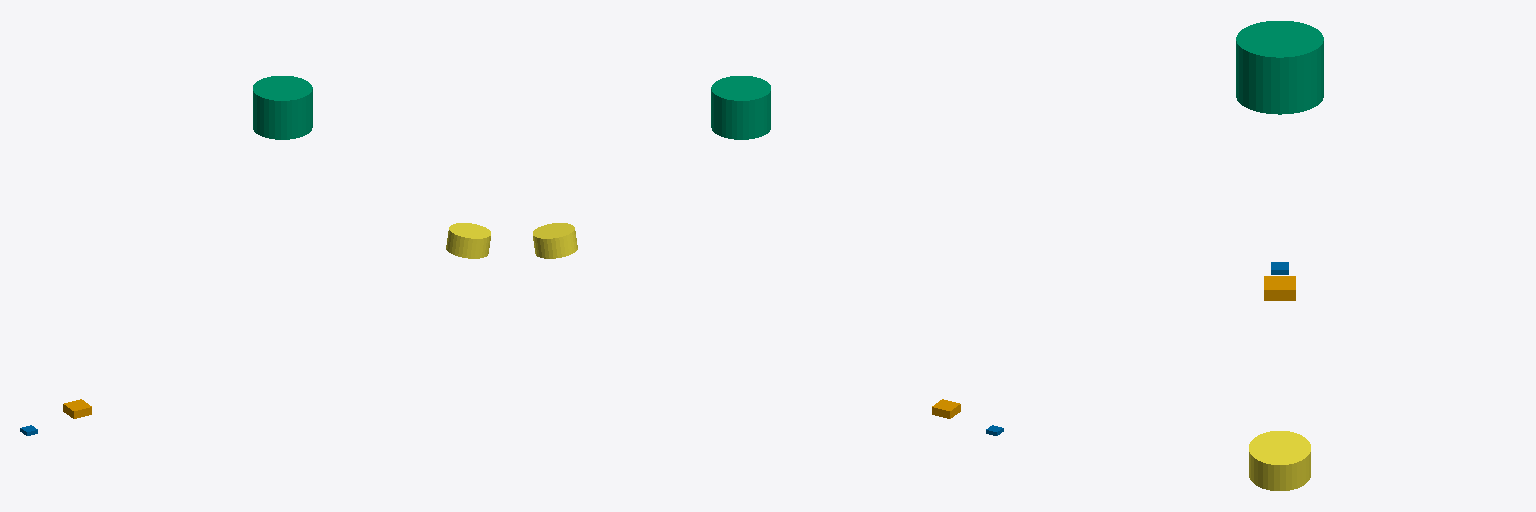
robot.urdf — BLUE:
<?xml version="1.0"?>

<robot name="BLUE">

<link name="base_link">

  <visual name='visual'>
    <geometry>
      <box size="0.05 0.05 0.02"/>
    </geometry>
  </visual>

  <collision name='collision'>
    <geometry>
      <box size="0.05 0.05 0.02"/>
    </geometry>
  </collision>

</link>

<link name="gps"/>

<link name='velodyne'>

  <visual name='visual'>
    <geometry>
      <cylinder length="0.1" radius="0.07"/>
    </geometry>
  </visual>

  <collision name='collision'>
    <geometry>
      <cylinder length="0.1" radius="0.07"/>
    </geometry>
  </collision>
  
</link>

<link name='camera_link'>

  <visual name='visual'>
    <geometry>
      <cylinder length="0.05" radius="0.05"/>
    </geometry>
  </visual>

  <collision name='collision'>
    <geometry>
      <cylinder length="0.05" radius="0.05"/>
    </geometry>
  </collision>
  
</link>

<link name="imu_link">

  <visual name='visual'>
    <geometry>
      <box size="0.03 0.03 0.01"/>
    </geometry>
  </visual>

  <collision name='collision'>
    <geometry>
      <box size="0.03 0.03 0.01"/>
    </geometry>
  </collision>

</link>


<joint name="base_to_velo" type="fixed">
  <parent link="base_link"/>
  <child link="velodyne"/>
  <origin rpy="0.0 0.0 0.0" xyz="0.55 0.0 0.645"/>
</joint>

<joint name="base_to_camera" type="fixed">
  <parent link="base_link"/>
  <child link="camera_link"/>
  <origin rpy="0.0 0.15 0.0" xyz="1.05 0.0 0.187"/>
</joint>

<joint name="base_to_imu" type="fixed">
  <parent link="base_link"/>
  <child link="imu_link"/>
  <origin rpy="0.0 0.0 0.0" xyz="-0.13 0.0 -0.025"/>
</joint>

<joint name="base_to_gps" type="fixed">
  <parent link="base_link"/>
  <child link="gps"/>
  <origin rpy="0.0 0.0 0.0" xyz="0.0 0.0 0.0"/>
</joint>


</robot>

--- What the picture shows (computed from the rendered views, not written in the file) ---
The picture shows the robot from 3 angles, left to right: view 1: azimuth 30°, elevation 25°; view 2: azimuth 150°, elevation 25°; view 3: azimuth 270°, elevation 25°; orthographic projection.
Model BLUE with 5 links and 4 joints (4 fixed), rooted at base_link, posed all joints at 0.
Links seen in each view (by area): view 1: velodyne, camera_link; view 2: velodyne, camera_link; view 3: velodyne, camera_link, base_link.
Link boxes in pixels (x1=…): velodyne: x1=253, y1=76, x2=312, y2=139; camera_link: x1=446, y1=223, x2=490, y2=258; velodyne: x1=711, y1=76, x2=770, y2=139; camera_link: x1=533, y1=223, x2=577, y2=258; velodyne: x1=1236, y1=21, x2=1323, y2=114; camera_link: x1=1249, y1=431, x2=1310, y2=490; base_link: x1=1264, y1=276, x2=1295, y2=300.
Bounding box of the posed robot: 1.25 × 0.14 × 0.725 m (x, y, z).
Geometry: primitives only (box / cylinder / sphere), no mesh files.
